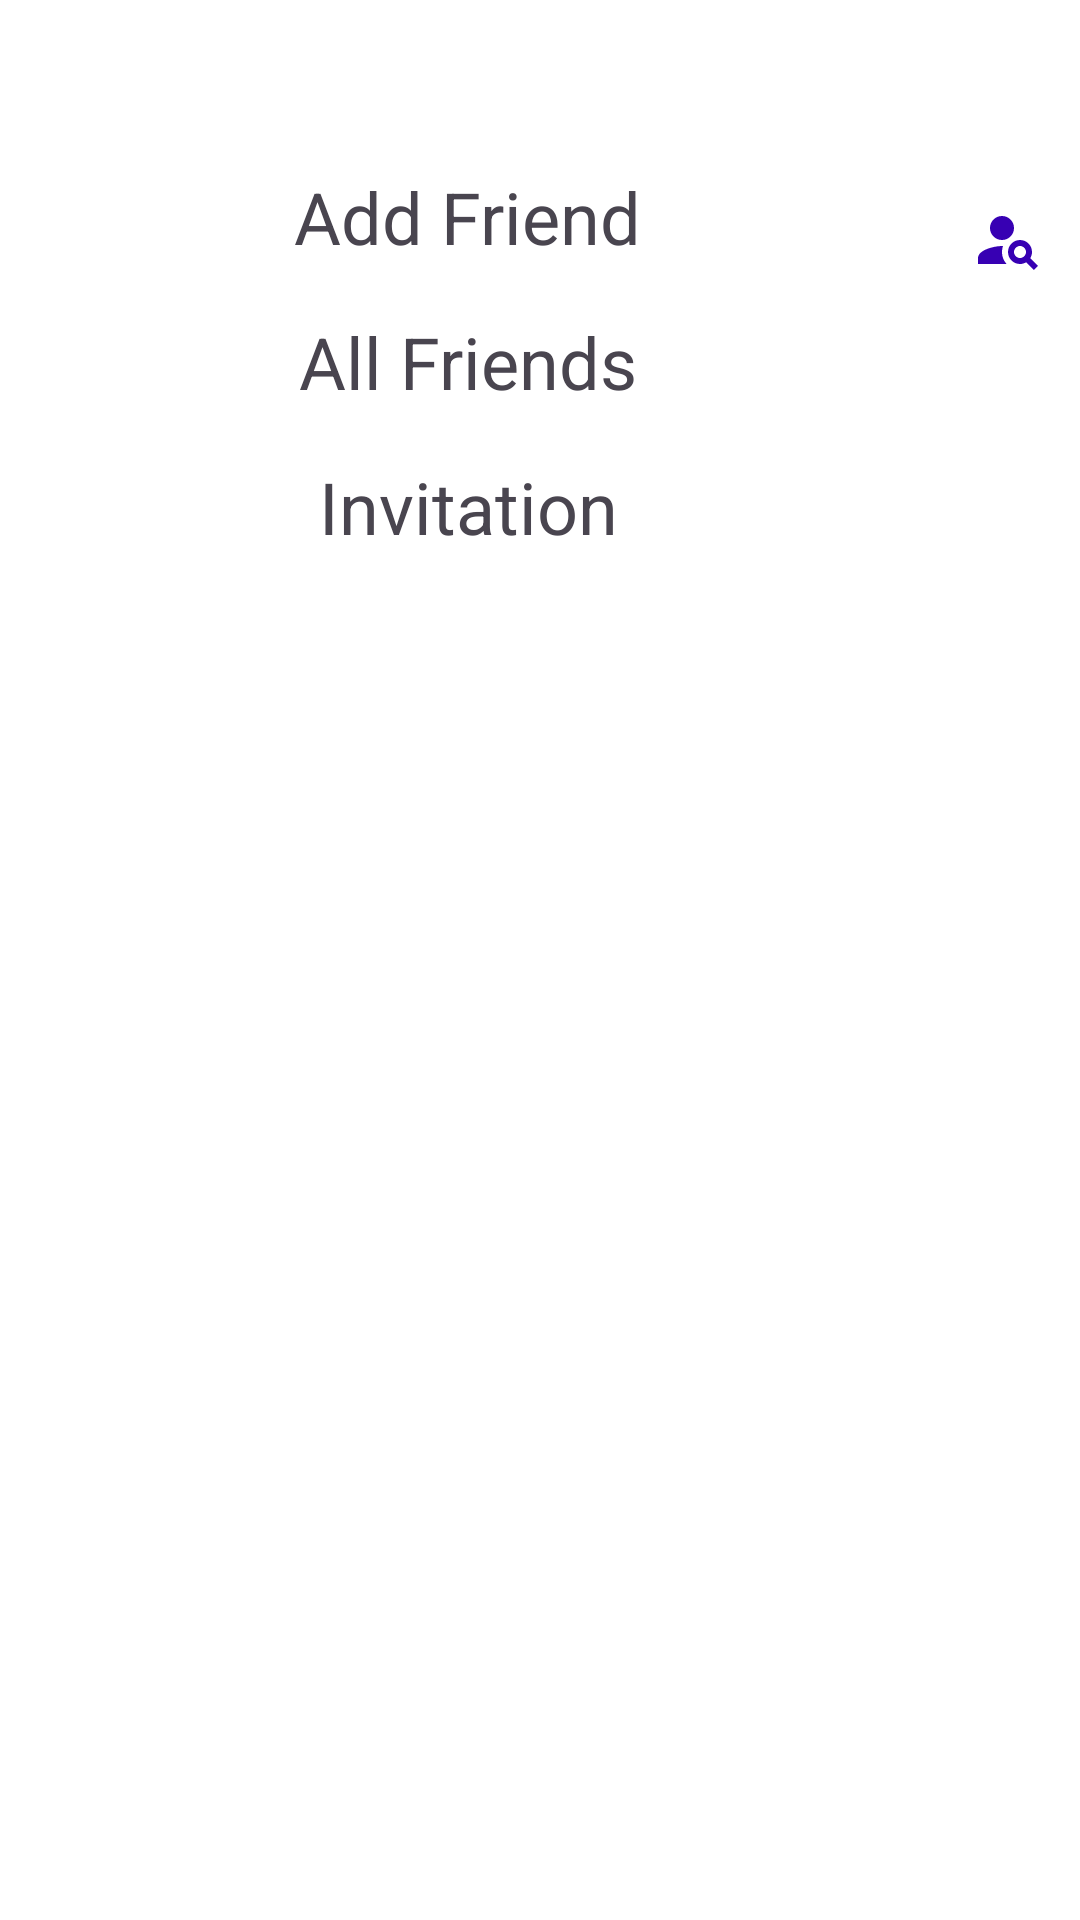

Icons on this 1080x1920 Android screen, each with the point to tap as [x,y]:
Search: [1008,243]
